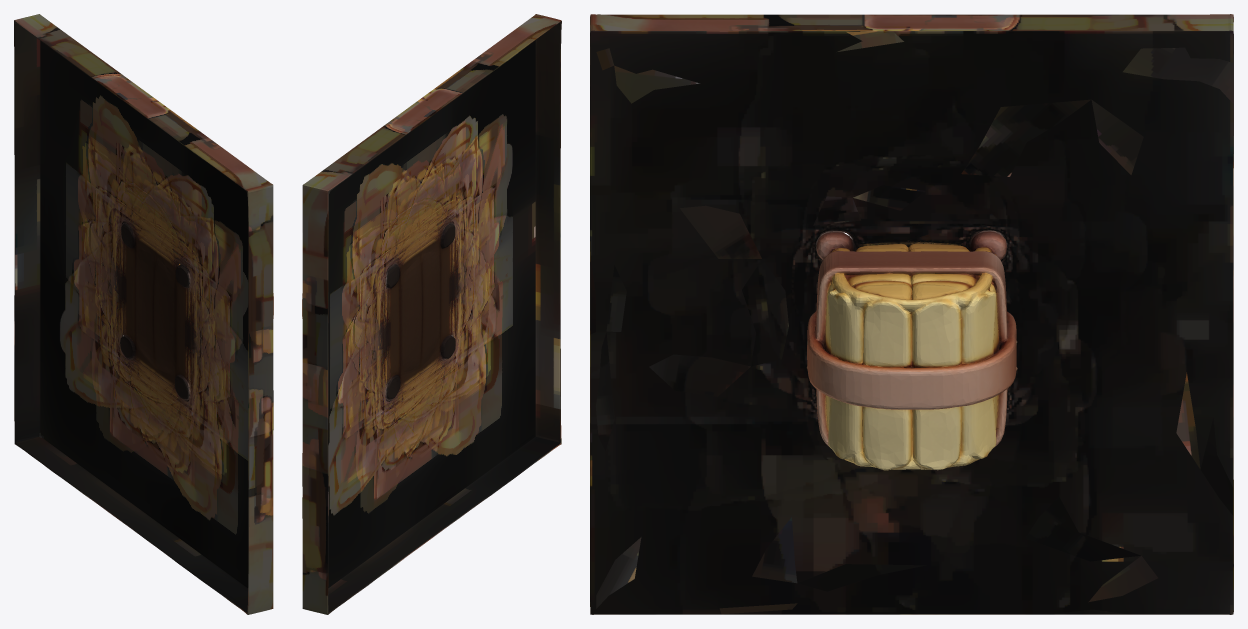
Rendered from hay_bale_comfyui.glb.
3 views of the same model, side by side, from view 1: azimuth 30°, elevation 25°; view 2: azimuth 150°, elevation 25°; view 3: azimuth 270°, elevation 25° (orthographic). The views are drawn at different scales.
Bounding box in the file's own units: 0.3156 × 1 × 1.
Materials: 1 (1 with a texture image).
